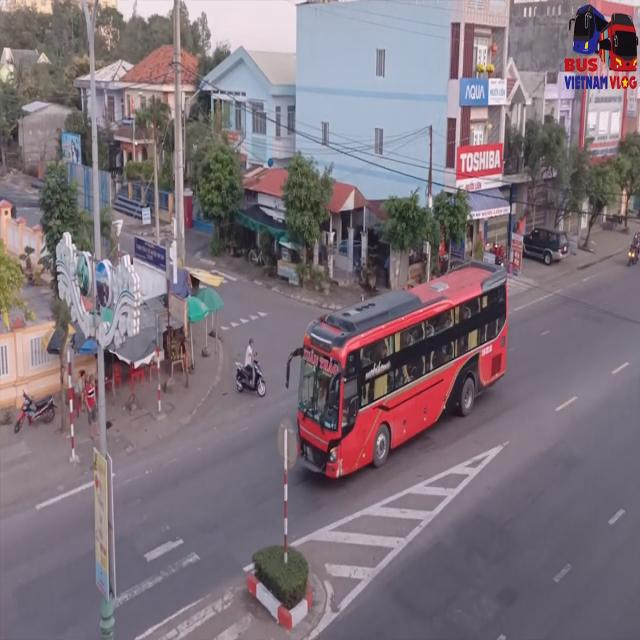bus: (294, 270, 514, 488)
motorbike: (233, 335, 262, 397), (627, 228, 640, 268)
